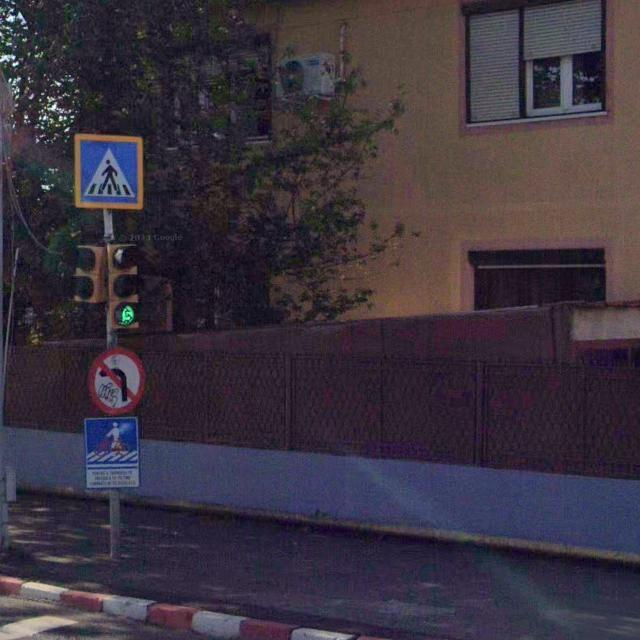info_crosswalk: (73, 131, 147, 212)
